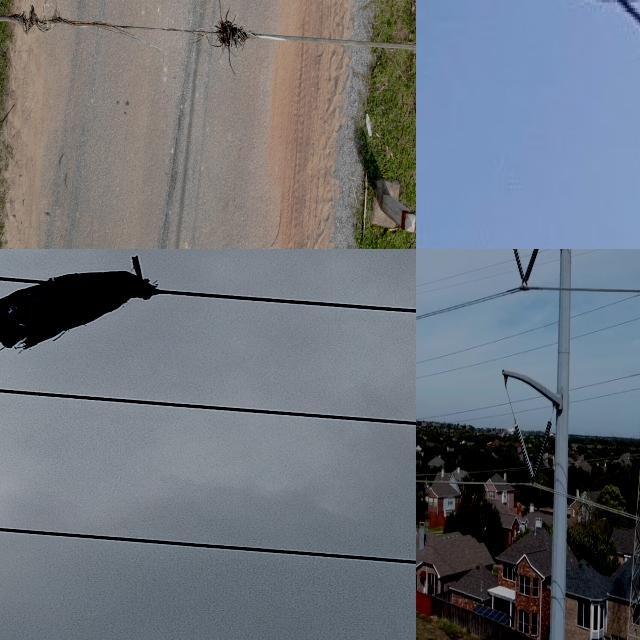植被遮挡: (0, 253, 186, 358)
正常电缆: (416, 276, 522, 329), (532, 481, 640, 528), (416, 470, 533, 490), (528, 282, 640, 300)
正常绝缘子: (513, 419, 555, 483), (511, 249, 543, 290), (636, 419, 640, 455)
电缆破损: (0, 0, 259, 67)
